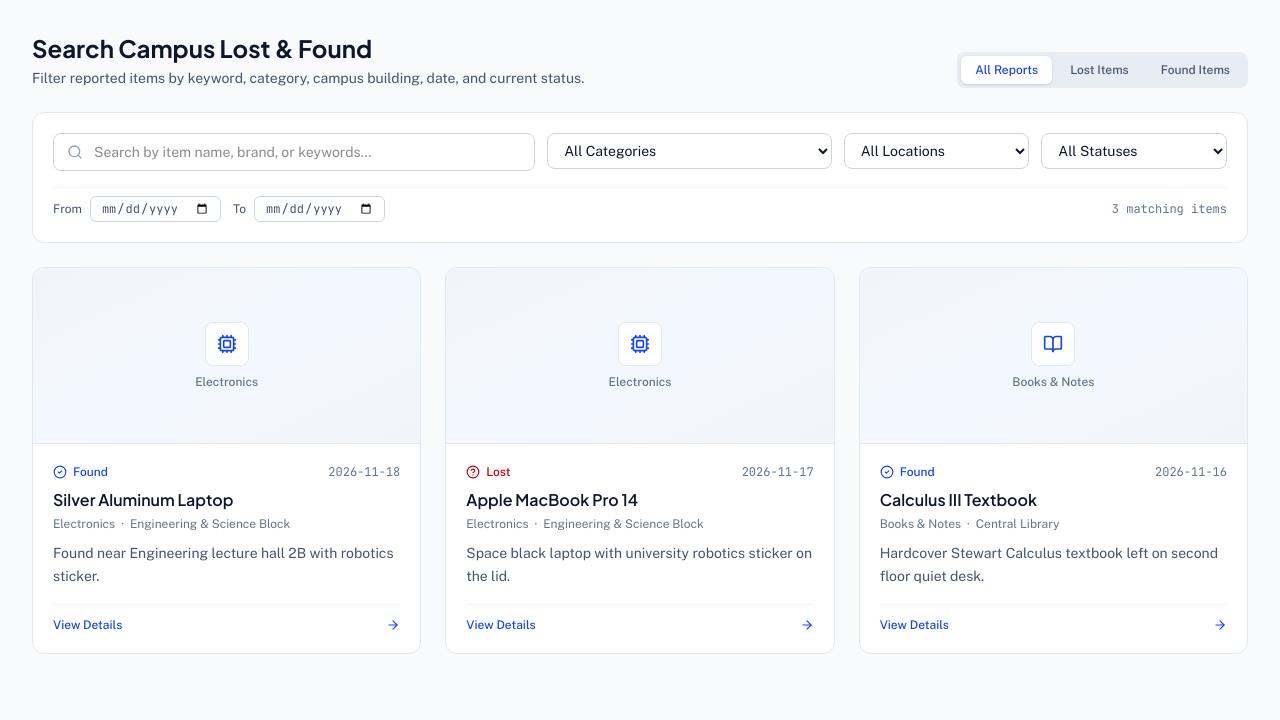
Test case: Module 2: Item Search and Matching › TC-M2-01: Searches items by item name
This screenshot has width=1280, height=720.
Type "Calculus" into the search field named "Search by item name or keywords".
click(294, 152); type("Calculus")  # box left=53, top=133, right=535, bottom=171
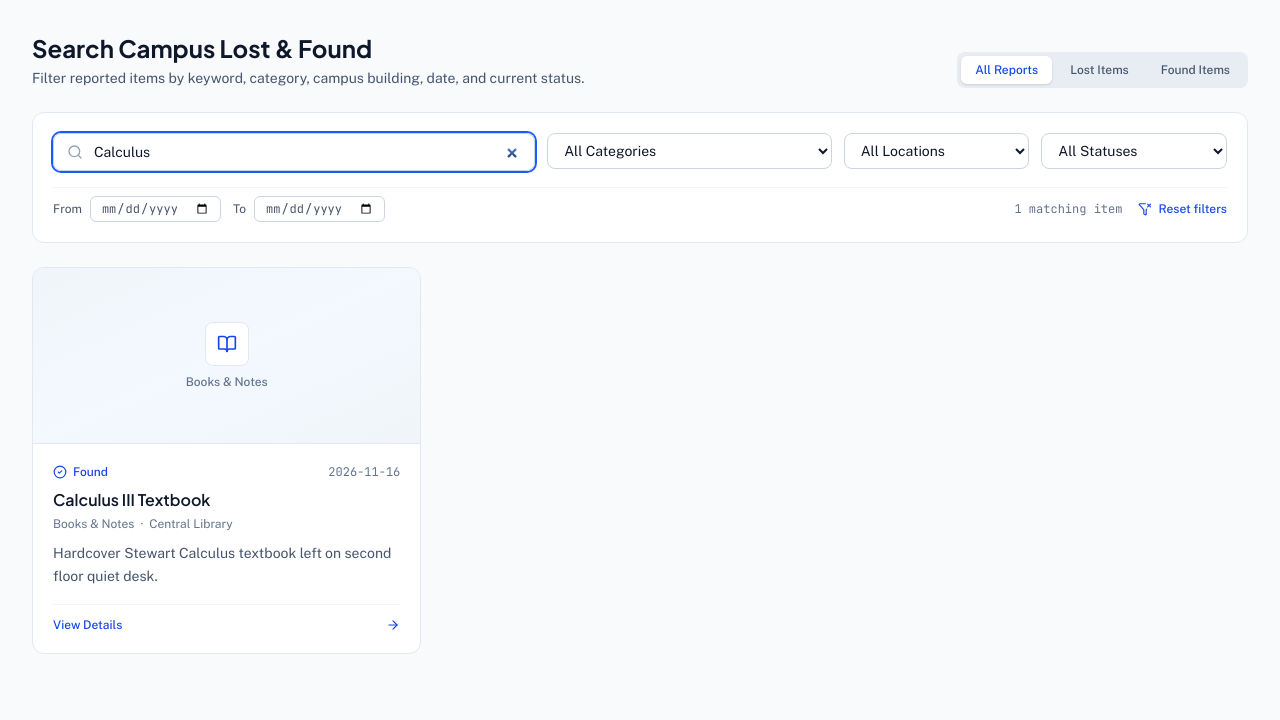
Expected: the heading "Calculus III Textbook" is shown, left=53, top=489, right=210, bottom=510
Result: the button "Apple MacBook Pro 14" is gone
